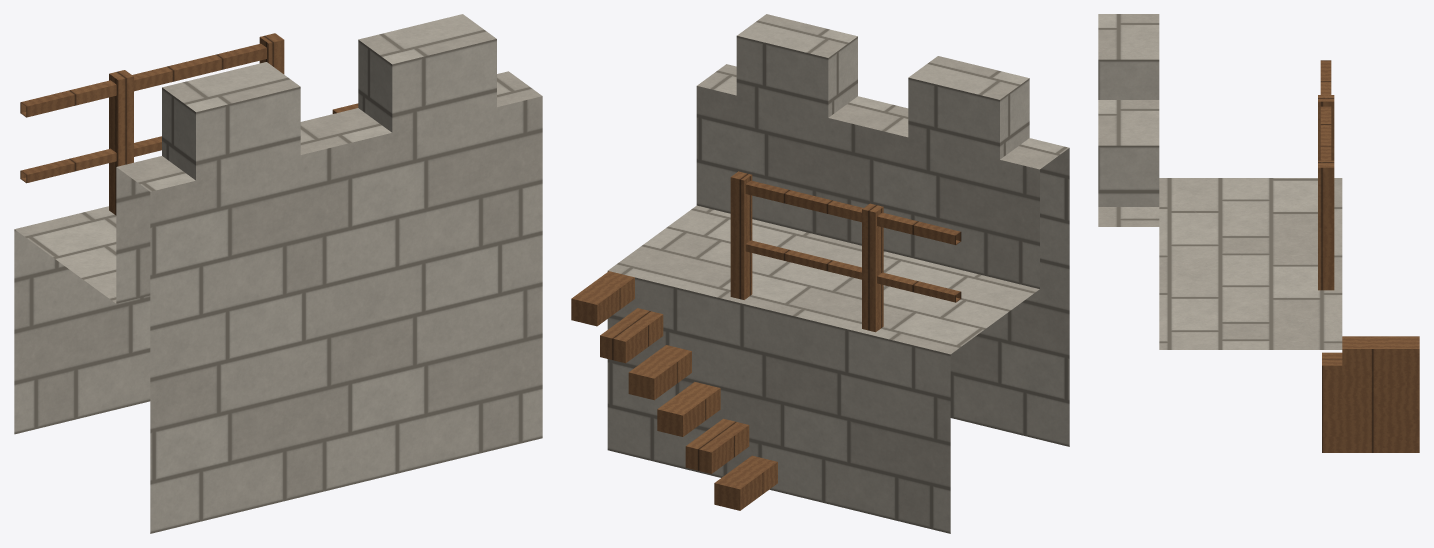
File: Wall_Top_StairS2.fbx
3 views of the same model, side by side, from view 1: azimuth 30°, elevation 25°; view 2: azimuth 150°, elevation 25°; view 3: azimuth 270°, elevation 25° (orthographic). The views are drawn at different scales.
Parts seen in each view (by area): view 1: Wall_Top_StairS2; view 2: Wall_Top_StairS2; view 3: Wall_Top_StairS2.
Part boxes in pixels (x1=…): Wall_Top_StairS2: x1=14, y1=14, x2=542, y2=533; Wall_Top_StairS2: x1=571, y1=14, x2=1069, y2=533; Wall_Top_StairS2: x1=1098, y1=14, x2=1419, y2=452.
Bounding box in the file's own units: 3 × 3 × 2.37.
Materials: 2 (2 with a texture image).
